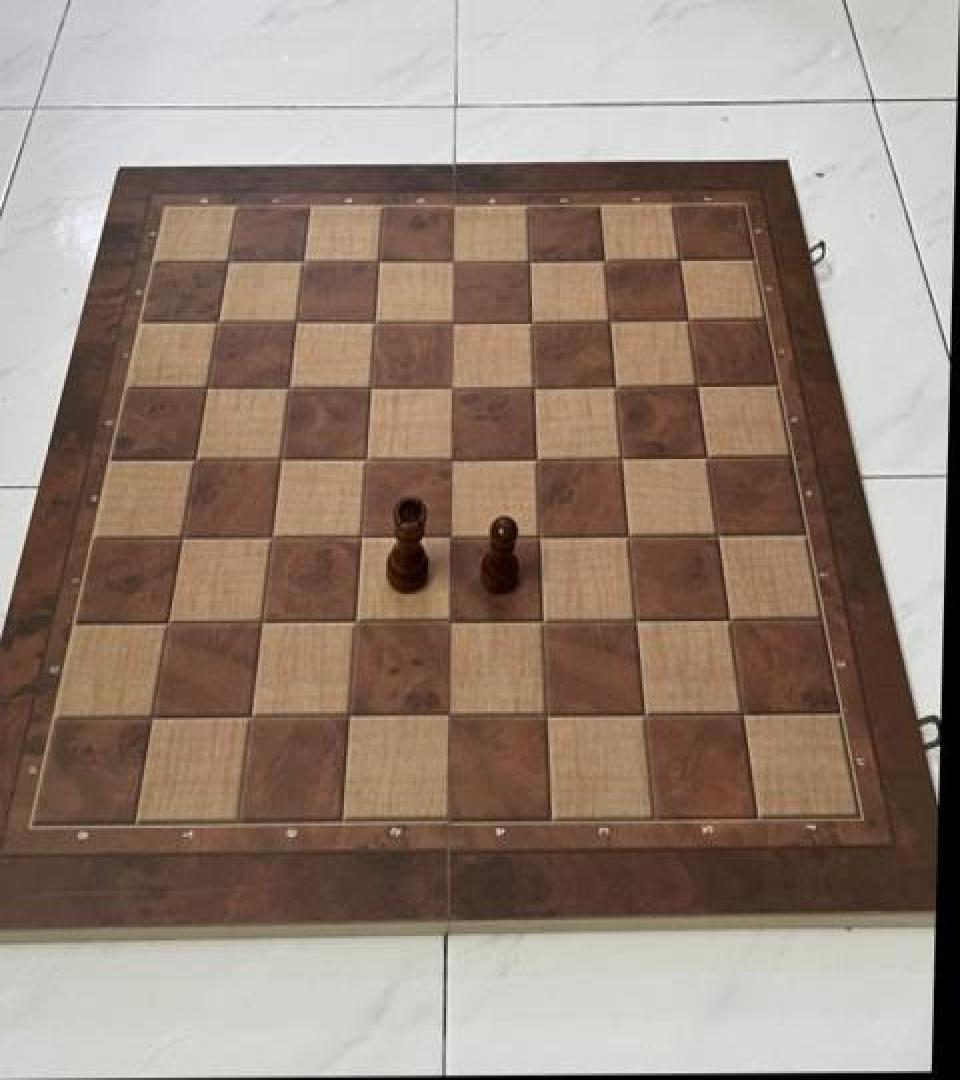xcorner: (214, 243, 248, 281), (290, 242, 324, 280), (365, 242, 399, 280), (441, 242, 475, 280), (516, 242, 550, 280), (592, 241, 626, 279), (667, 241, 701, 279), (204, 304, 238, 342), (283, 304, 317, 342), (361, 303, 395, 341), (440, 303, 474, 341), (518, 303, 552, 341), (597, 302, 631, 340), (675, 302, 709, 340), (193, 369, 227, 407), (275, 369, 309, 407), (357, 369, 391, 407), (439, 369, 473, 407), (520, 368, 554, 406), (602, 368, 636, 406), (684, 368, 718, 406), (181, 441, 215, 479), (267, 441, 301, 479), (352, 440, 386, 478), (437, 440, 471, 478), (523, 440, 557, 478), (608, 439, 642, 477), (693, 439, 727, 477), (168, 520, 202, 558), (258, 519, 292, 557), (347, 519, 381, 557), (436, 519, 470, 557), (525, 518, 559, 556), (614, 518, 648, 556), (703, 516, 737, 554), (154, 606, 188, 644), (248, 604, 282, 642), (341, 604, 375, 642), (435, 603, 469, 641), (528, 603, 562, 641), (621, 603, 655, 641), (715, 602, 749, 640), (139, 699, 173, 737), (237, 699, 271, 737), (335, 698, 369, 736), (433, 698, 467, 736), (531, 698, 565, 736), (629, 696, 663, 734), (727, 696, 761, 734)
